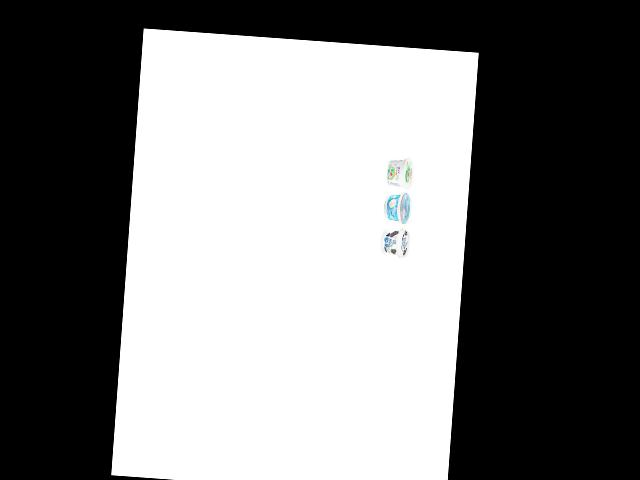cotage: (383, 154, 416, 191)
